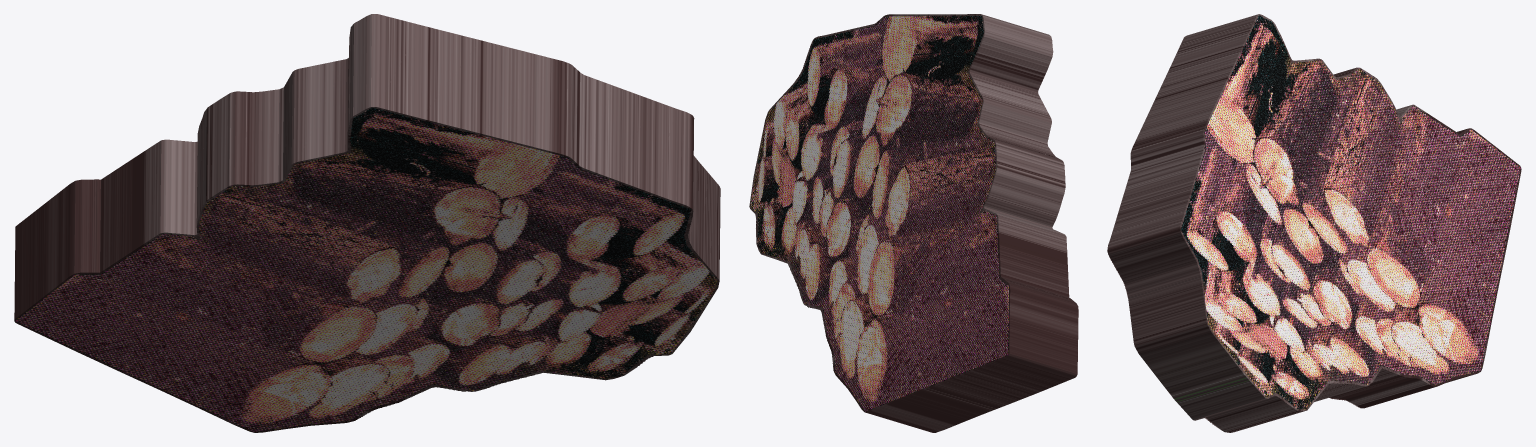
File: 地下室_堆積物4.fbx
The picture shows the model from 3 angles, left to right: view 1: azimuth 30°, elevation 25°; view 2: azimuth 150°, elevation 25°; view 3: azimuth 270°, elevation 25°; orthographic projection. The views are drawn at different scales.
Visible parts, largest first — view 1: 地下室_堆積物4; view 2: 地下室_堆積物4; view 3: 地下室_堆積物4.
Part boxes in pixels (<box>): 地下室_堆積物4: <box>14,14,720,432</box>; 地下室_堆積物4: <box>749,14,1078,432</box>; 地下室_堆積物4: <box>1107,14,1521,432</box>.
Bounding box in the file's own units: 3007 × 2465 × 2374.
1 material, 1 textured.
